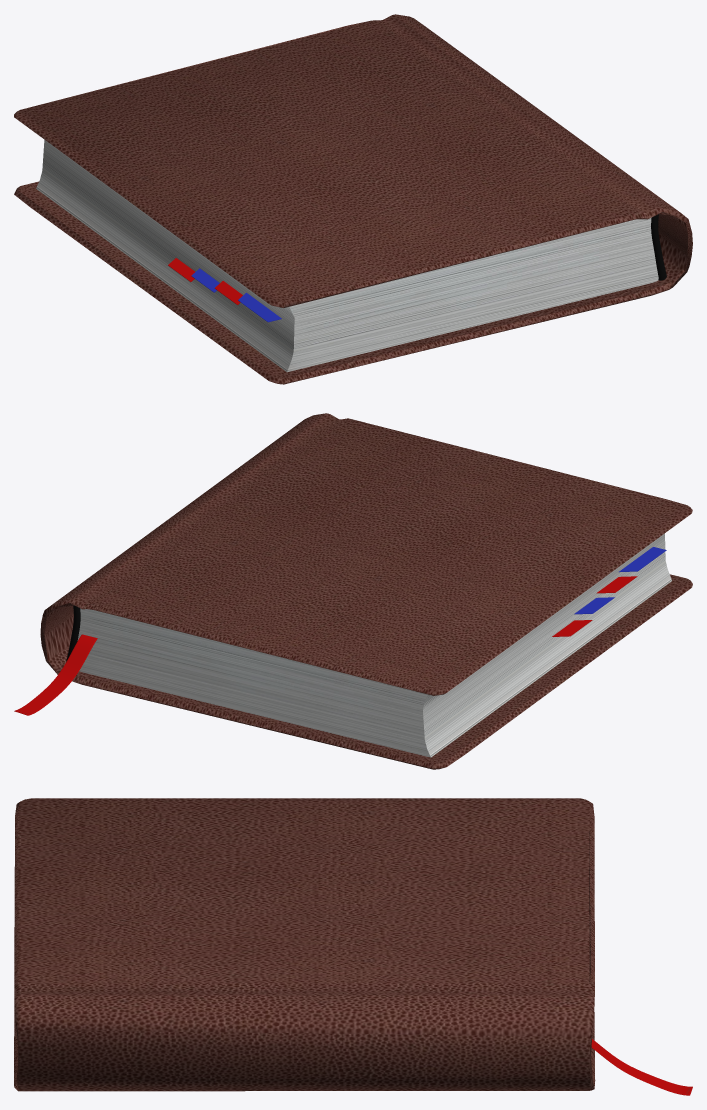
Rendered from Diary.FBX.
3 renders of one model, top to bottom at view 1: azimuth 30°, elevation 25°; view 2: azimuth 150°, elevation 25°; view 3: azimuth 270°, elevation 25°, orthographic. The views are drawn at different scales.
Parts seen in each view (by area): view 1: diary; view 2: diary; view 3: diary.
Part boxes in pixels (x1,y1,x2,y2): diary: (14,14,692,384); diary: (14,413,692,769); diary: (14,798,692,1095).
Bounding box in the file's own units: 21.36 × 4.2 × 27.74.
1 material, 1 textured.
